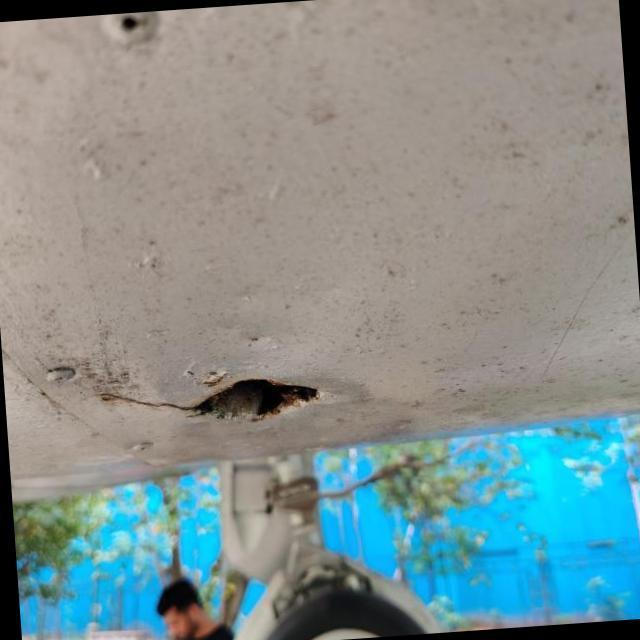Rupture: (82, 351, 341, 450)
